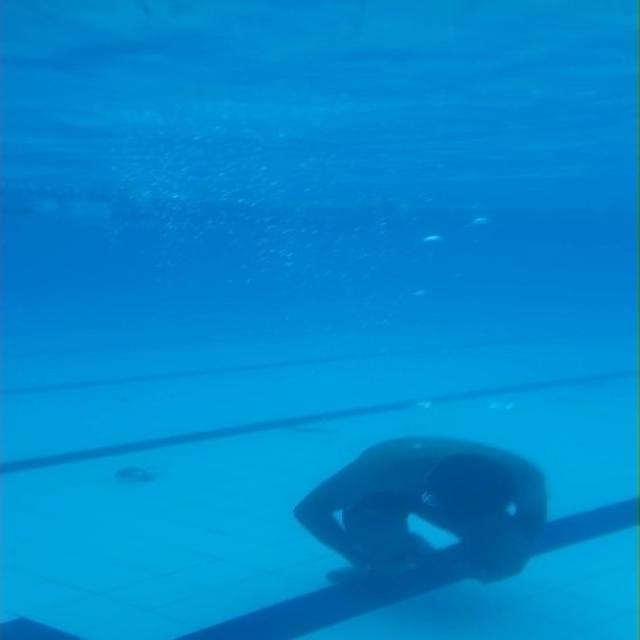Drowning: (296, 438, 554, 593)
